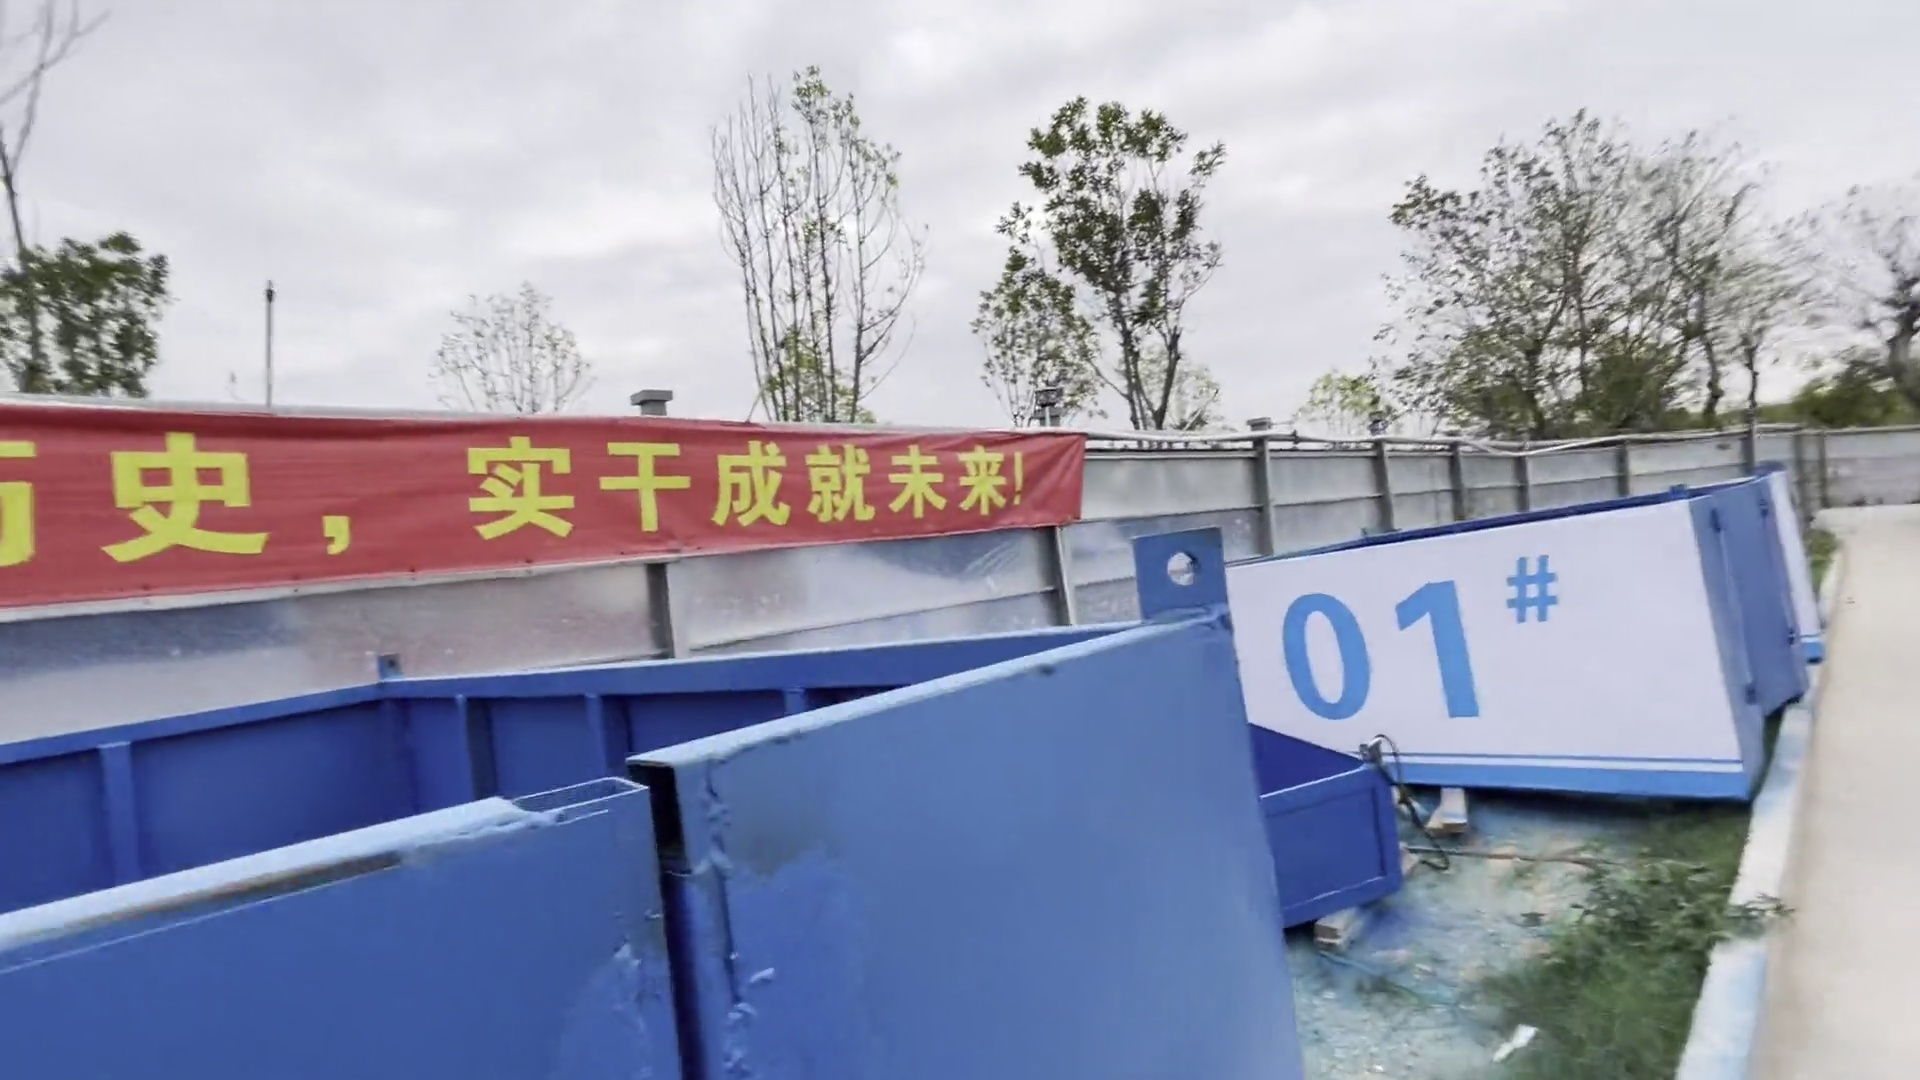slogan: (7, 377, 1098, 592)
